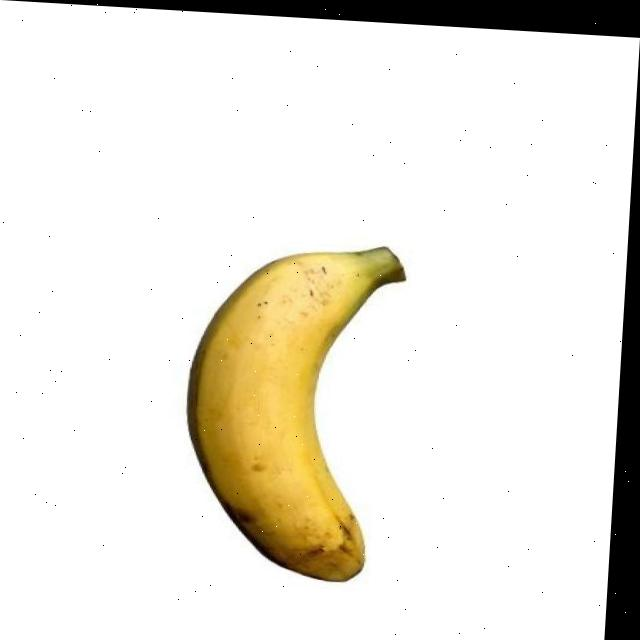banana: (180, 235, 410, 591)
